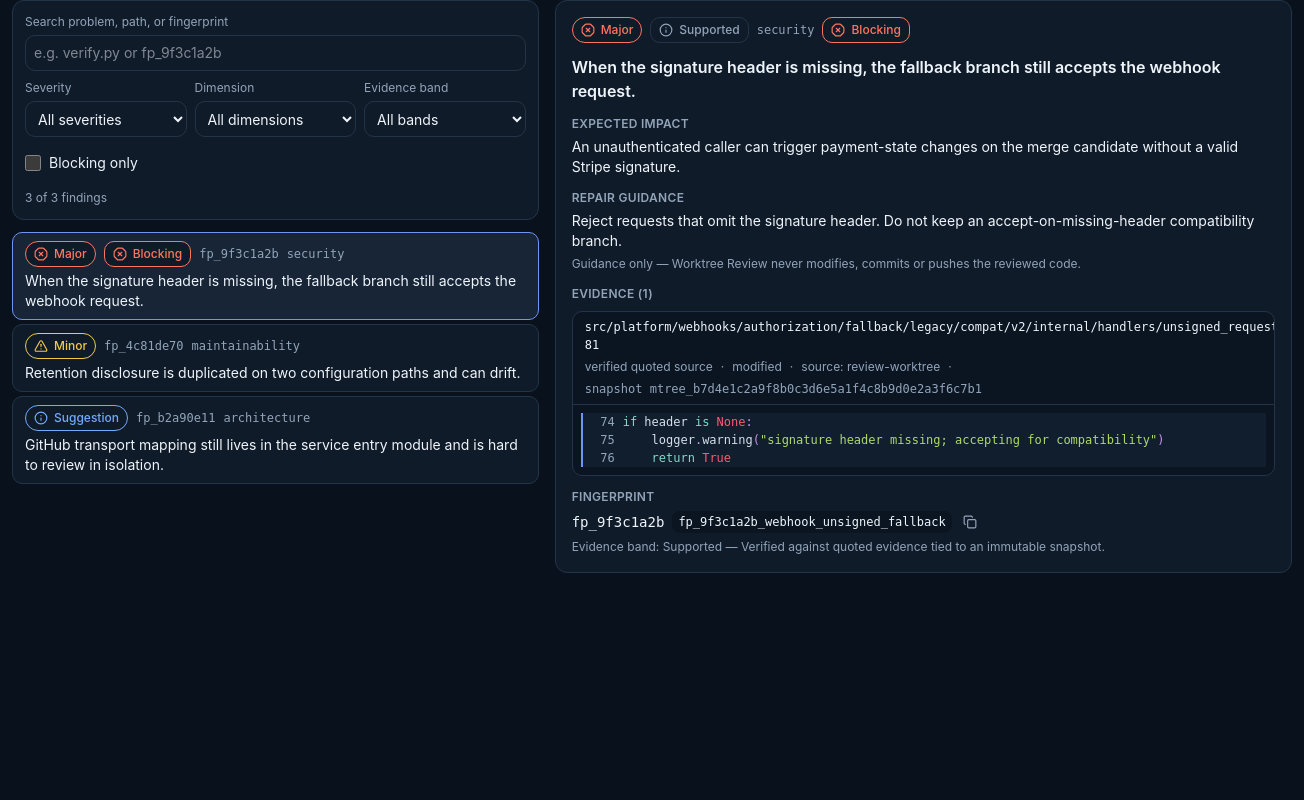
Test case: FindingsTab detail pane › switches detail when another finding is selected and syncs the URL
Step 1. Click the text "Retention disclosure is duplicated" → (273,373), box [25, 363, 520, 383]
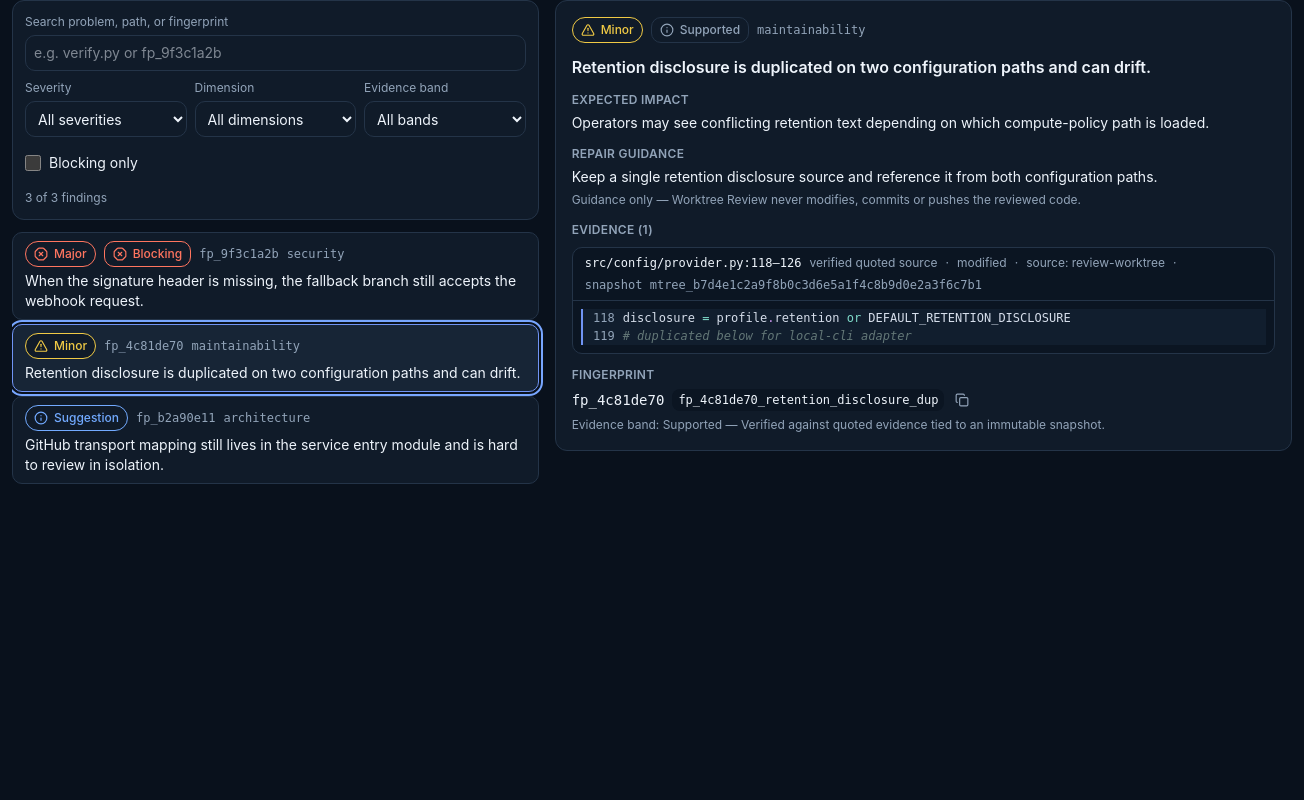
Now the heading "Retention disclosure is duplicated" is shown, box [572, 57, 1151, 77]
Now the text "verified quoted source" shows "duplicated below for local-cli adapter", box [623, 329, 912, 343]
